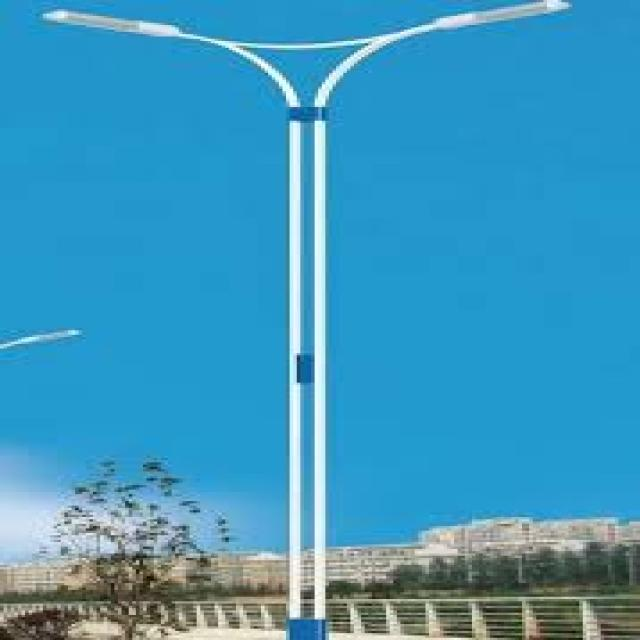Street Light: (43, 2, 572, 638), (4, 326, 82, 369)
